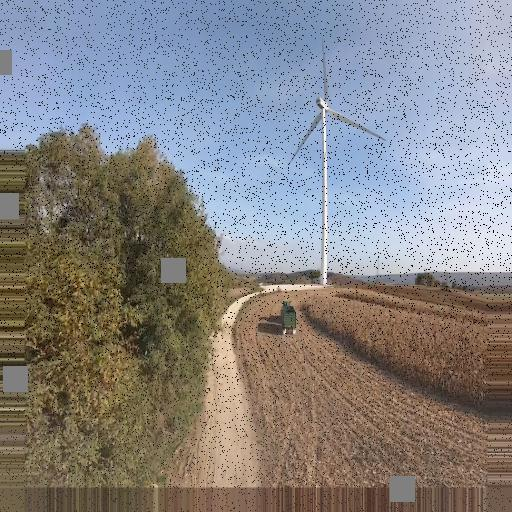wind turbine: (286, 37, 387, 279)
